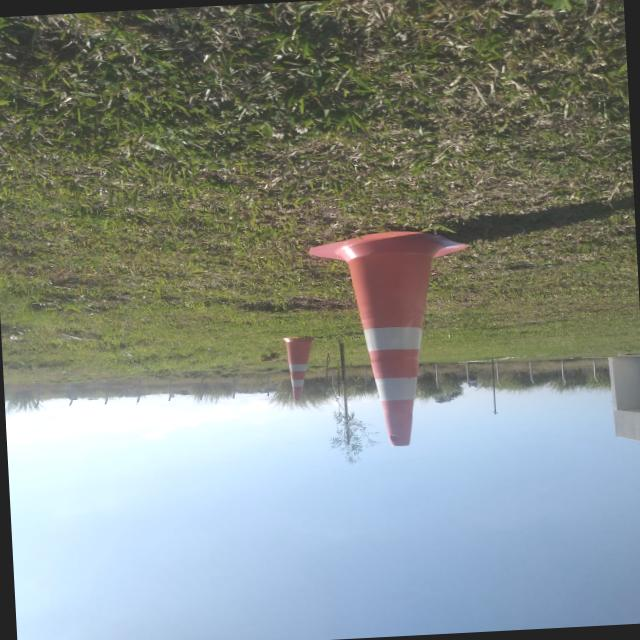cone: (297, 218, 493, 456), (268, 334, 330, 406)
